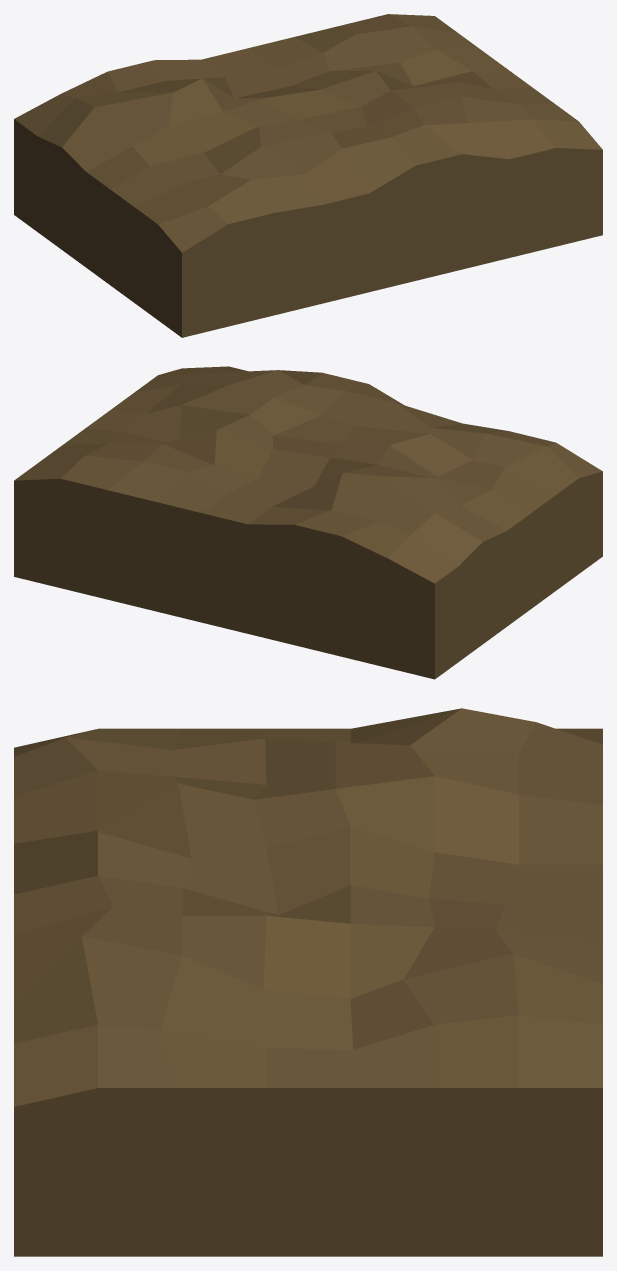
Rendered from ground.fbx.
3 views of the same model, one above another, from view 1: azimuth 30°, elevation 25°; view 2: azimuth 150°, elevation 25°; view 3: azimuth 270°, elevation 25° (orthographic). The views are drawn at different scales.
Visible parts, largest first — view 1: pCube1; view 2: pCube1; view 3: pCube1.
Part boxes in pixels (x1,y1,x2,y2): pCube1: (14,14,602,337); pCube1: (14,366,602,679); pCube1: (14,708,602,1256).
Size of the model in its own units: 14.46 by 4.51 by 10.
